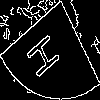H: (25, 25, 68, 82)
